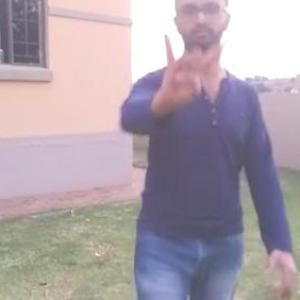takeoff-hand: (157, 28, 232, 112)
